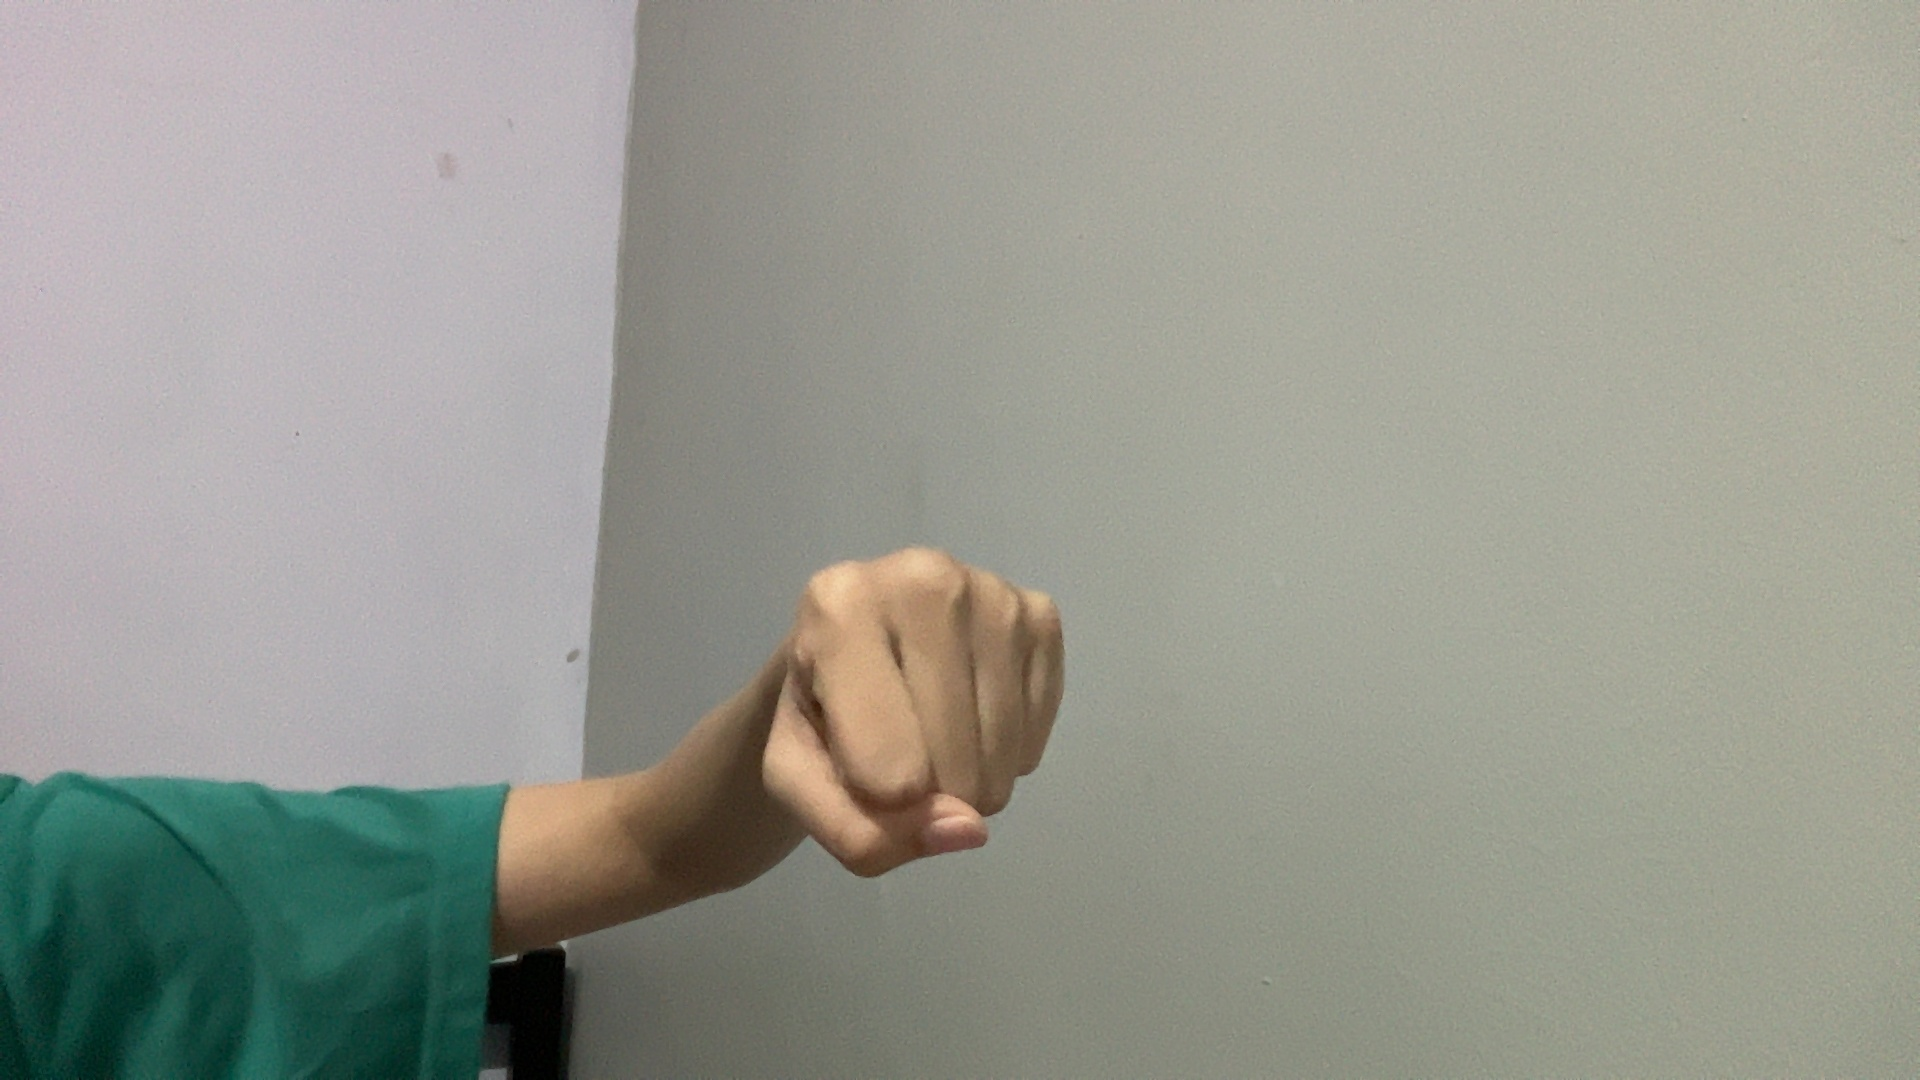Yes: (471, 436, 1333, 990)
